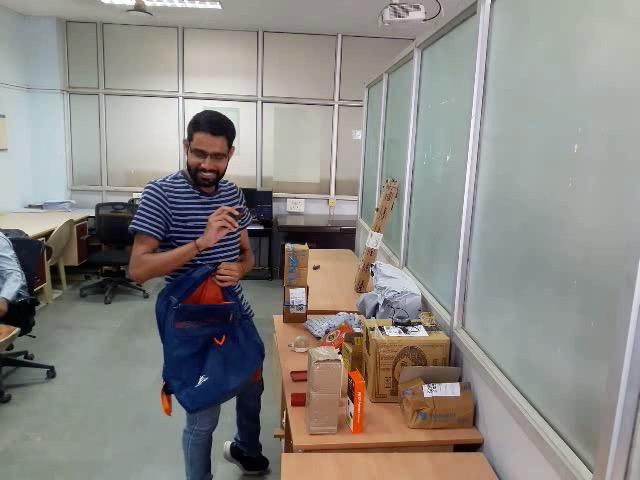shoplifting: (128, 198, 272, 426)
